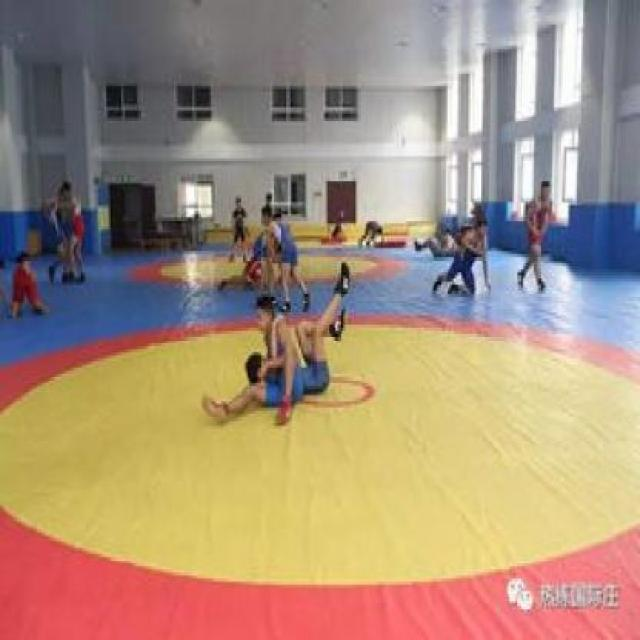fall: (5, 236, 49, 321)
